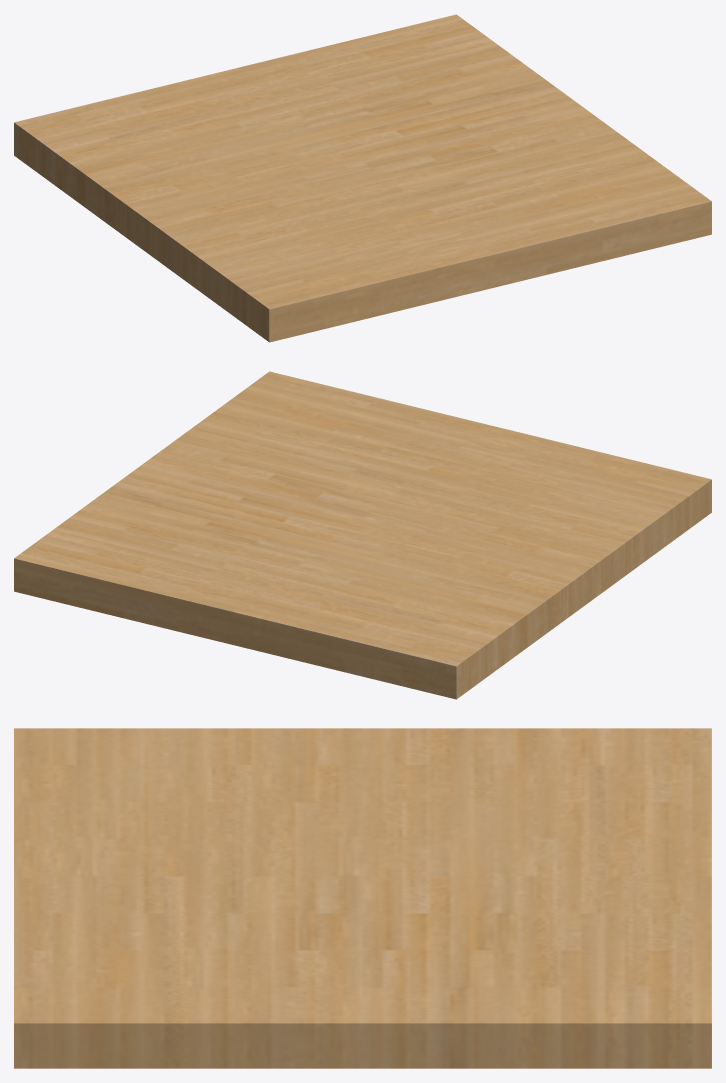
The model's file is zemin yeni.fbx.
3 views of the same model, one above another, from view 1: azimuth 30°, elevation 25°; view 2: azimuth 150°, elevation 25°; view 3: azimuth 270°, elevation 25° (orthographic). The views are drawn at different scales.
Visible parts, largest first — view 1: Plane.051; view 2: Plane.051; view 3: Plane.051.
Boxes of the visible parts, box(x1,y1,x2,y2) form: Plane.051: box(14, 14, 711, 342); Plane.051: box(14, 371, 711, 699); Plane.051: box(14, 728, 711, 1068).
Size of the model in its own units: 100 by 7.17 by 100.
Materials: 1 (1 with a texture image).
